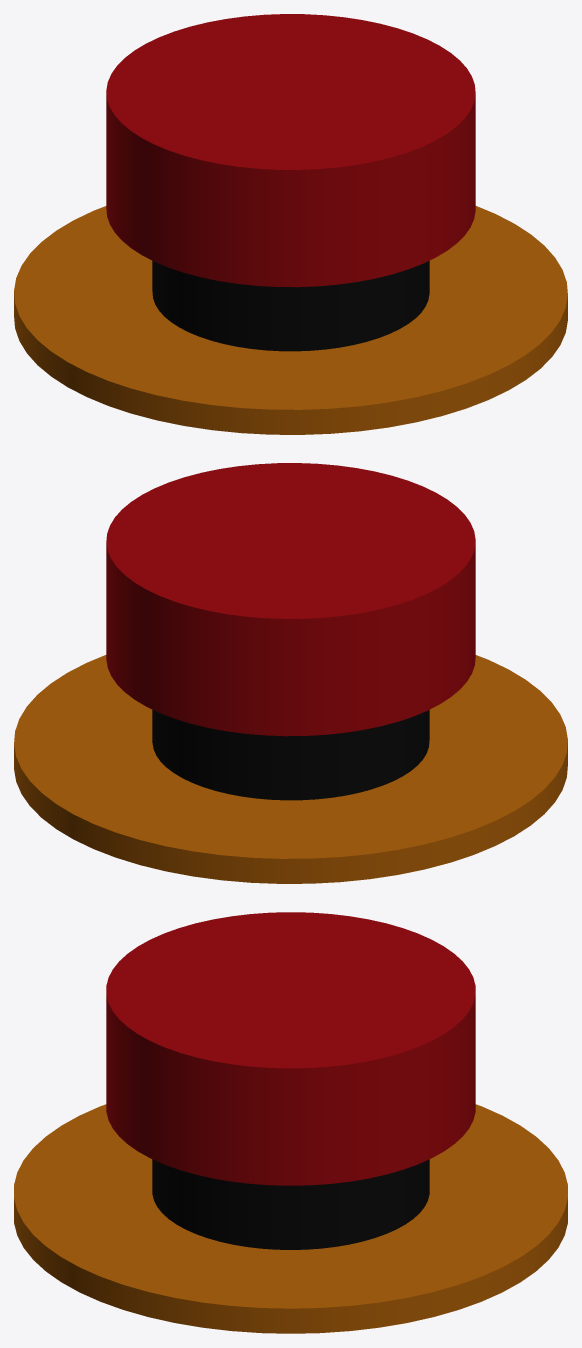
File: estop.glb
3 views of the same model, one above another, from view 1: azimuth 30°, elevation 25°; view 2: azimuth 150°, elevation 25°; view 3: azimuth 270°, elevation 25° (orthographic).
Visible parts, largest first — view 1: estop; view 2: estop; view 3: estop.
Part boxes in pixels (bbox=[...]): estop: bbox=[14, 14, 567, 434]; estop: bbox=[14, 463, 567, 883]; estop: bbox=[14, 912, 567, 1333].
Bounding box in the file's own units: 0.06 × 0.027 × 0.0599.
